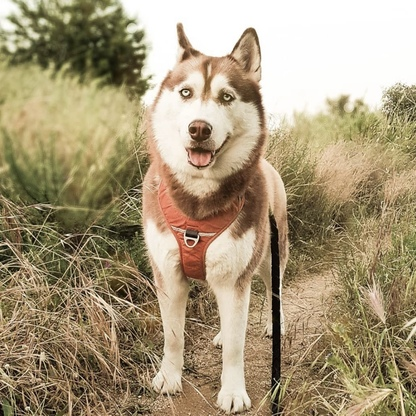husky: (132, 17, 295, 416)
